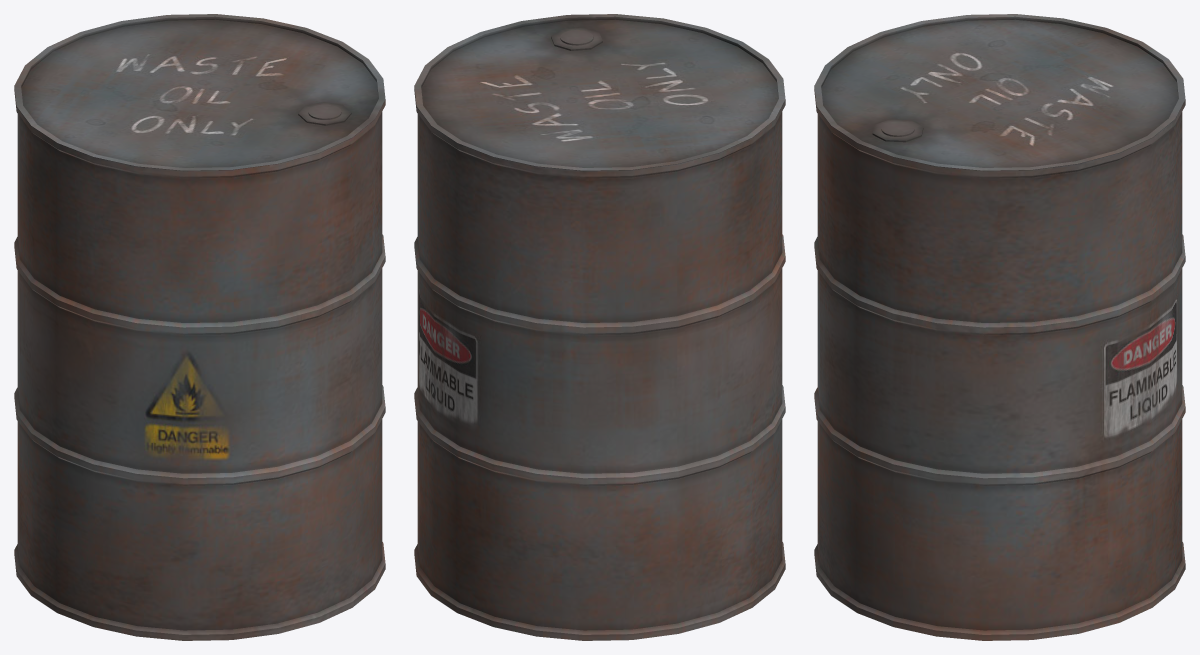
File: OilBarrels_g.fbx
3 views of the same model, side by side, from view 1: azimuth 30°, elevation 25°; view 2: azimuth 150°, elevation 25°; view 3: azimuth 270°, elevation 25° (orthographic).
Parts seen in each view (by area): view 1: Barrel03_1; view 2: Barrel03_1; view 3: Barrel03_1.
Part boxes in pixels (x1,y1,x2,y2): Barrel03_1: (14,14,385,640); Barrel03_1: (414,14,785,640); Barrel03_1: (814,14,1185,640).
Size of the model in its own units: 0.5579 by 0.78 by 0.5579.
